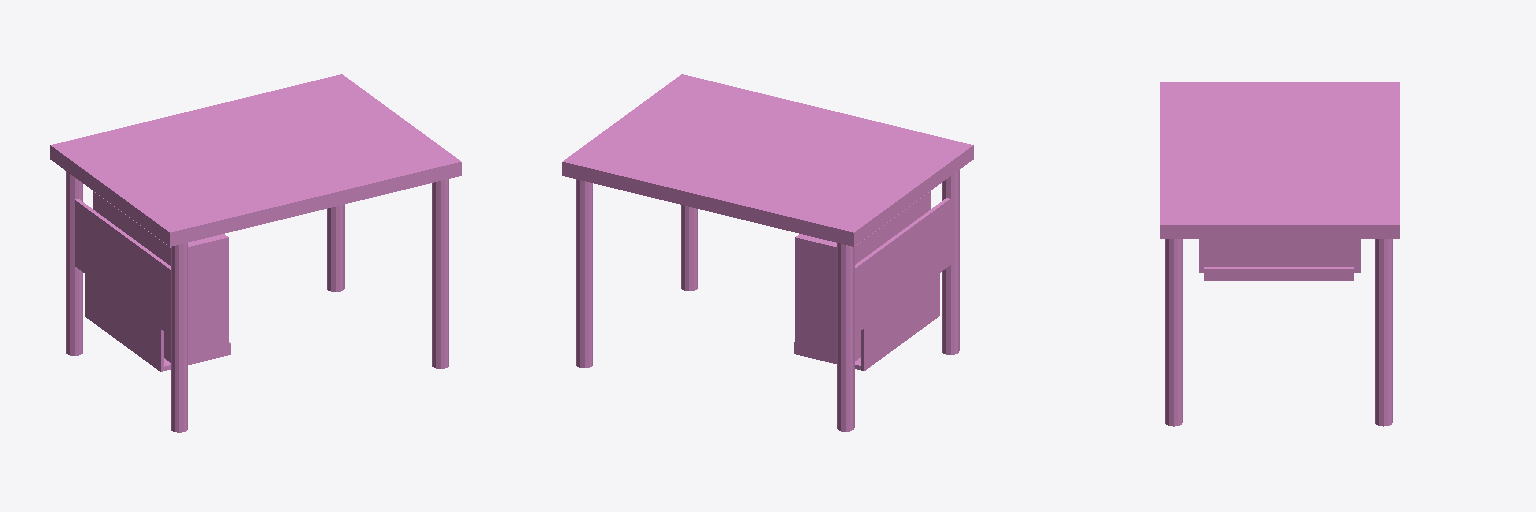
The model's file is 3d_room_desk.obj.
3 renders of one model, left to right at view 1: azimuth 30°, elevation 25°; view 2: azimuth 150°, elevation 25°; view 3: azimuth 270°, elevation 25°, orthographic.
Visible parts, largest first — view 1: Box011; view 2: Box011; view 3: Box011.
Part boxes in pixels (left/top/right/bottom): Box011: left=50, top=74, right=461, bottom=432; Box011: left=562, top=74, right=973, bottom=431; Box011: left=1160, top=82, right=1399, bottom=426.
Bounding box in the file's own units: 1.36 × 0.9156 × 0.9672.